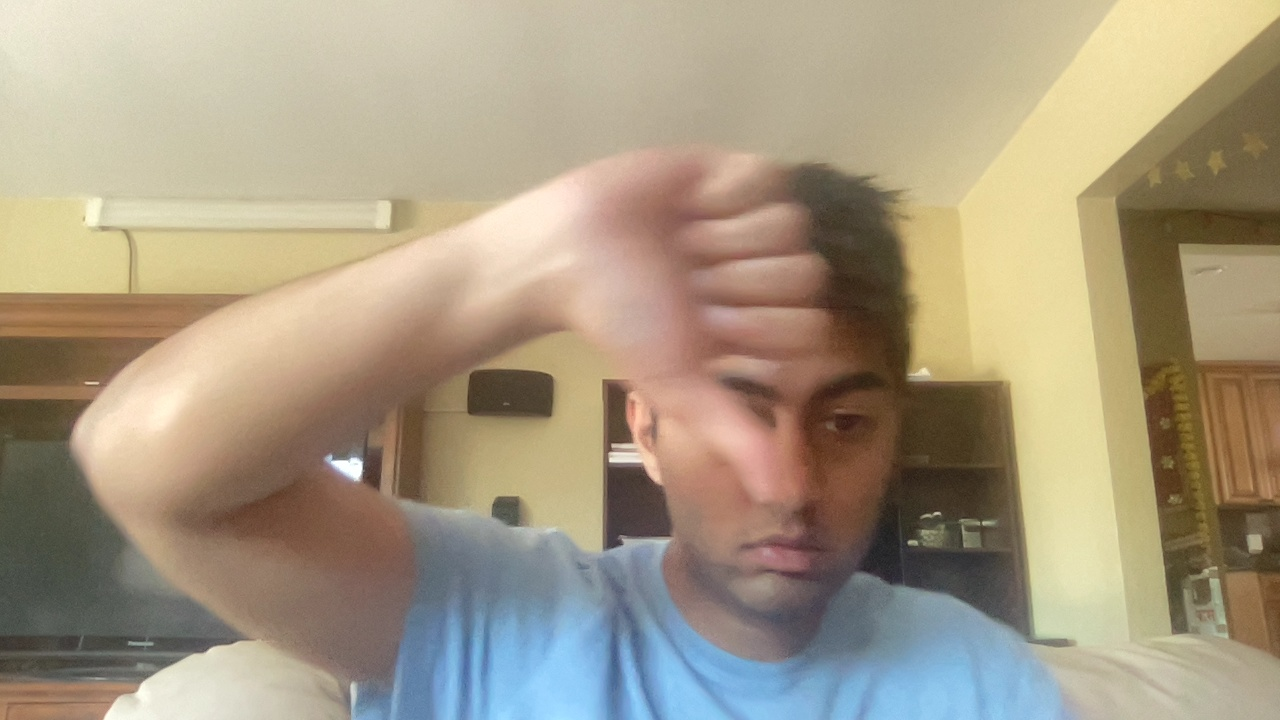ThumbsDown: (554, 140, 832, 507)
